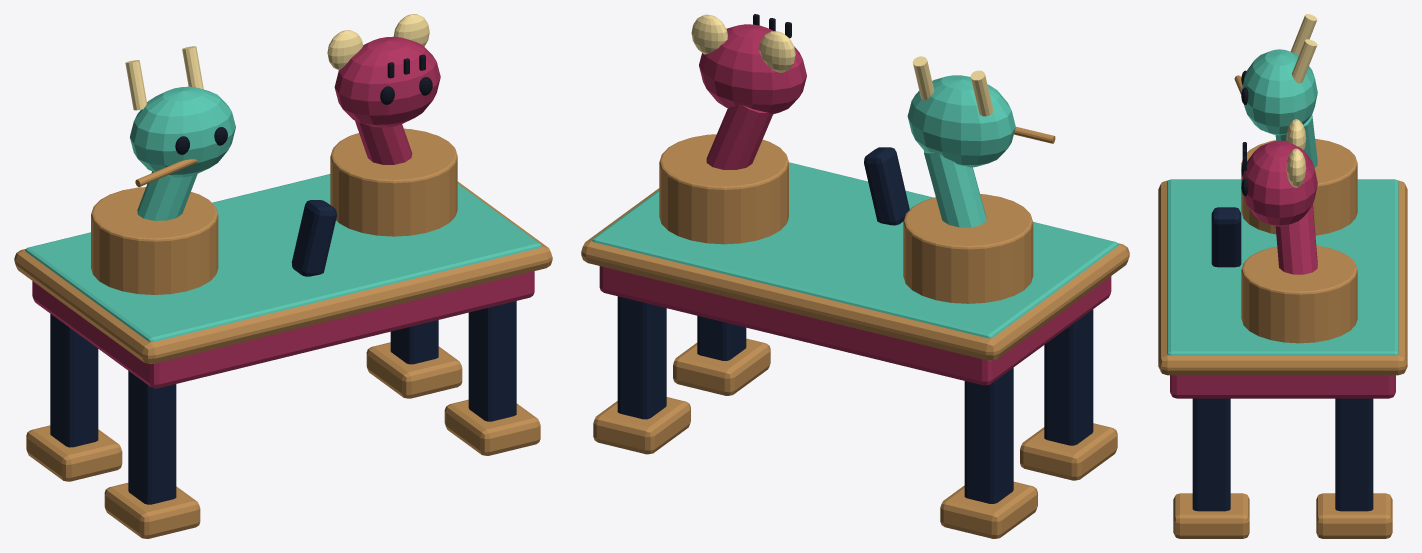
Rendered from DragonTiger.fbx.
3 views of the same model, side by side, from view 1: azimuth 30°, elevation 25°; view 2: azimuth 150°, elevation 25°; view 3: azimuth 270°, elevation 25° (orthographic). The views are drawn at different scales.
Parts seen in each view (by area): view 1: DragonTiger.Mesh; view 2: DragonTiger.Mesh; view 3: DragonTiger.Mesh.
Part boxes in pixels (x1,y1,x2,y2): DragonTiger.Mesh: (14,14,552,538); DragonTiger.Mesh: (581,14,1129,538); DragonTiger.Mesh: (1158,14,1407,538).
Bounding box in the file's own units: 260 × 250 × 150.
